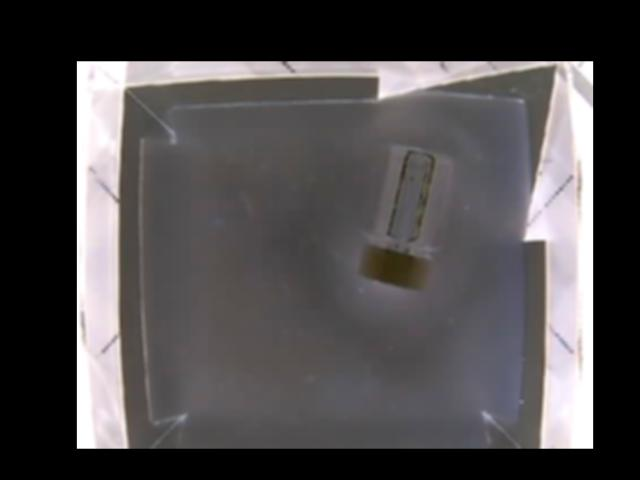Bottle: (356, 142, 454, 291)
